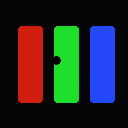0 point: (52, 56, 60, 64)
